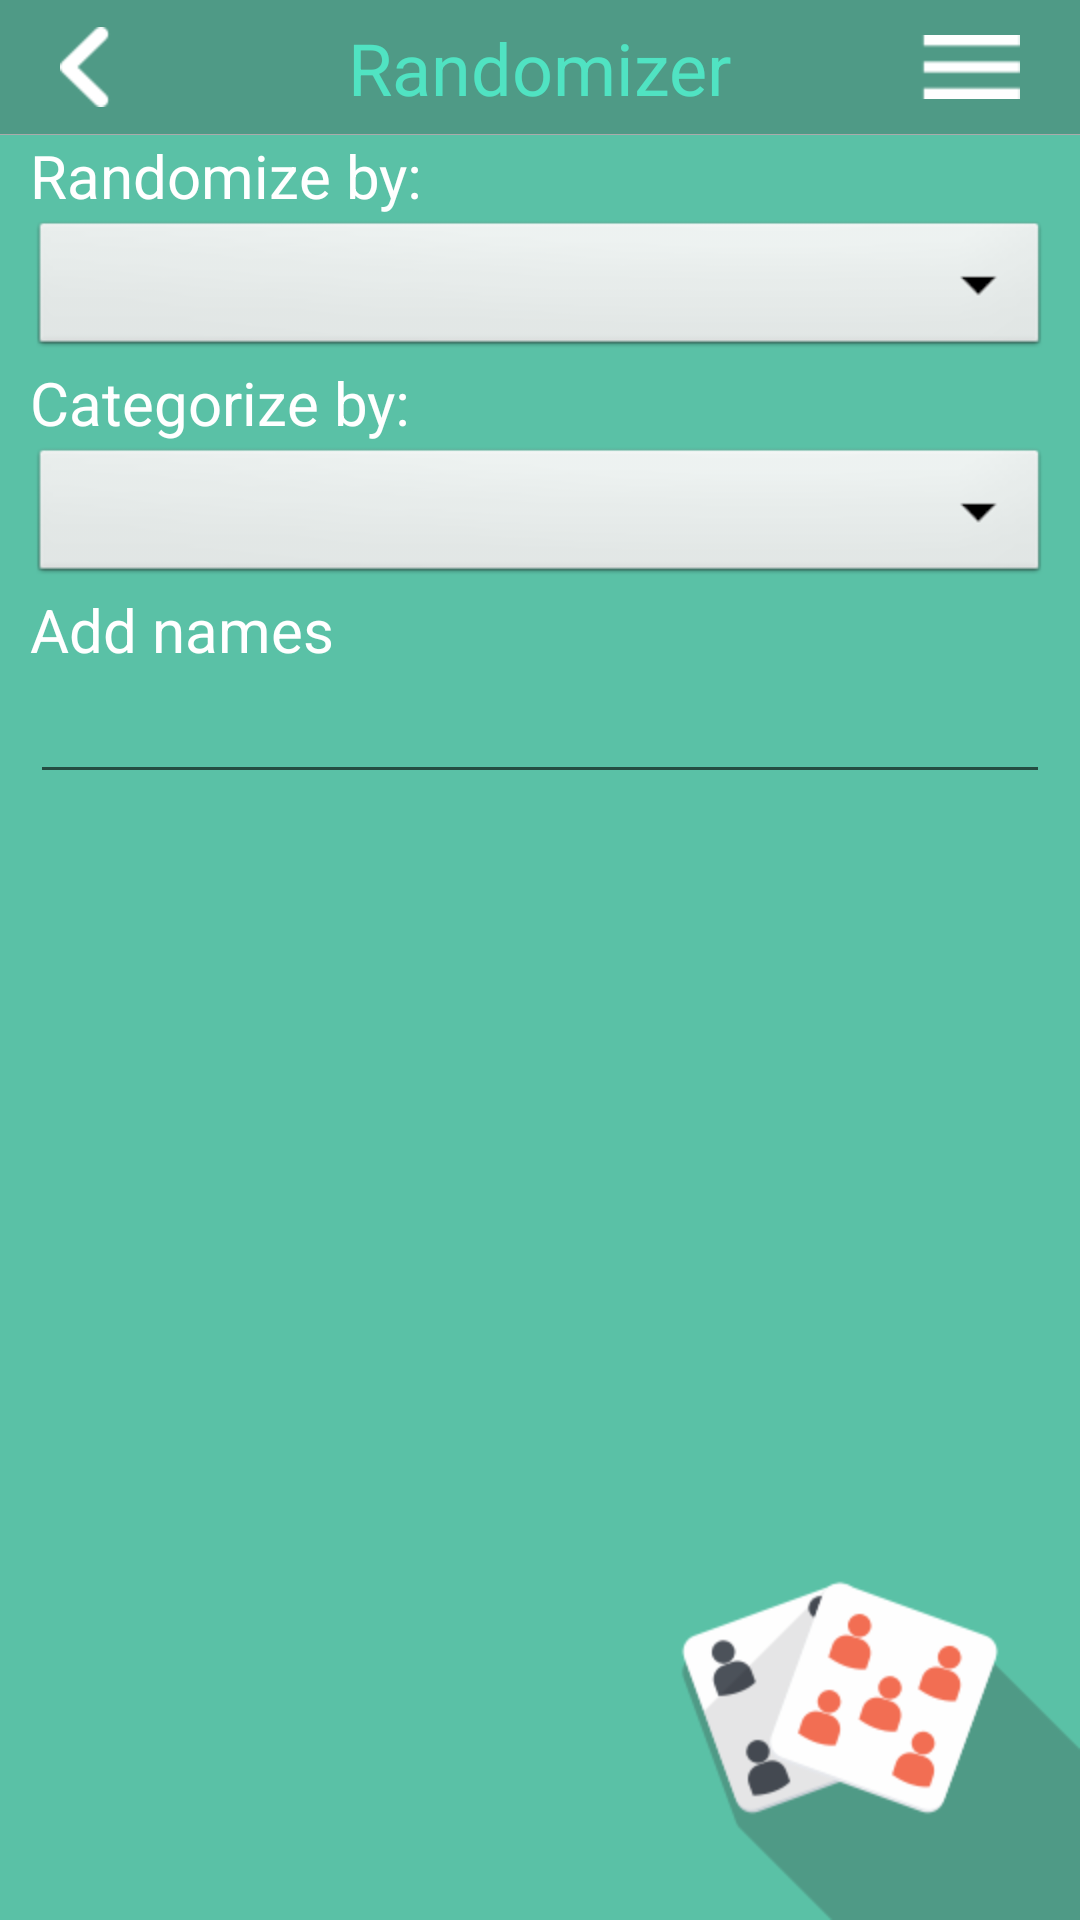

Locate icon controls on the screen. Image size 1080×1920, boxes as (x1, y1, x2, y2).
back: (60, 27, 109, 107)
menu: (923, 35, 1020, 99)
